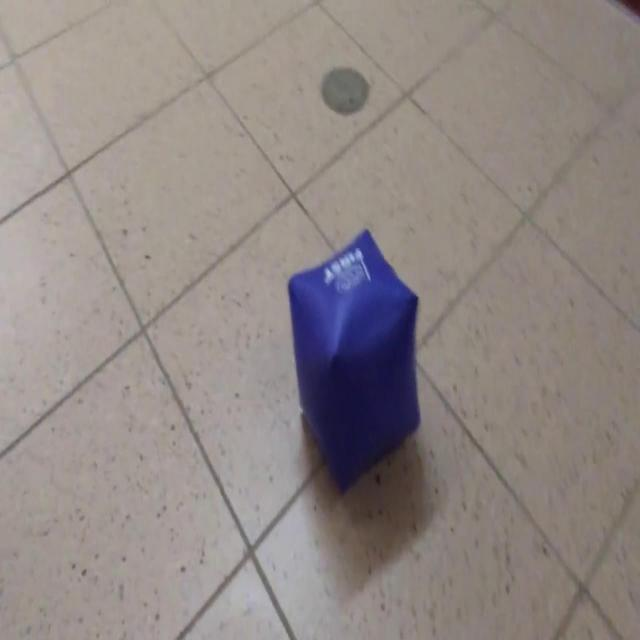frc_cube: (287, 228, 423, 494)
